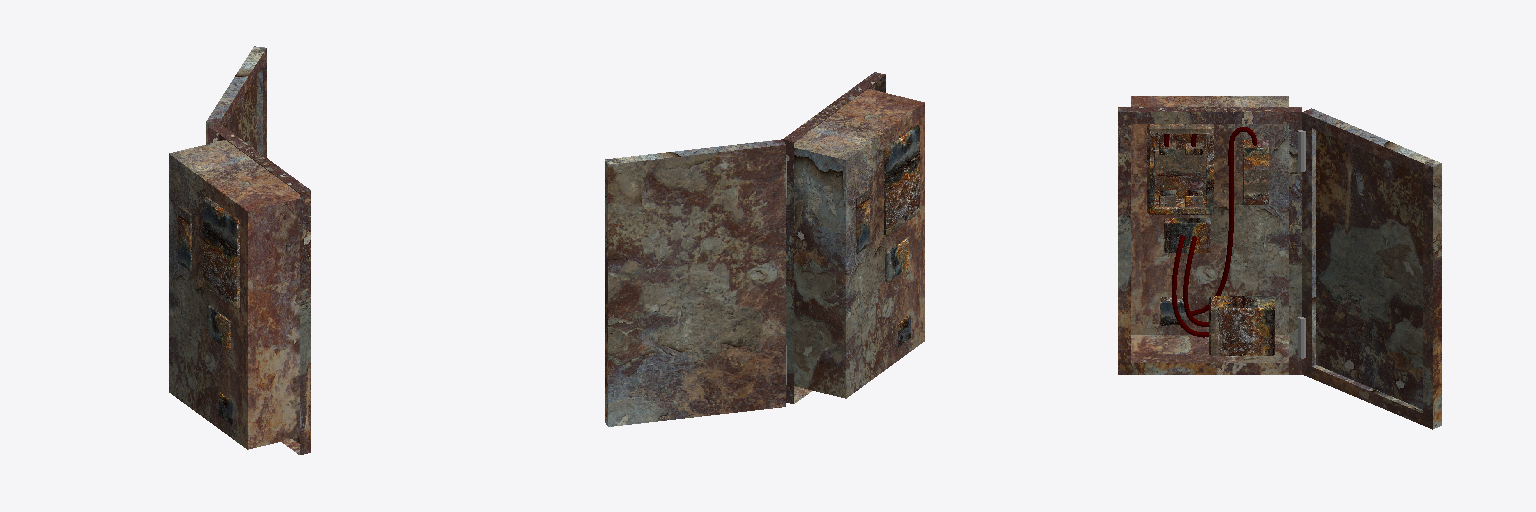
3 views of the same model, side by side, from view 1: azimuth 30°, elevation 25°; view 2: azimuth 150°, elevation 25°; view 3: azimuth 270°, elevation 25° (orthographic).
Parts seen in each view (by area): view 1: ElevatorElectricBox, ElevatorElectricBoxCover; view 2: ElevatorElectricBoxCover, ElevatorElectricBox; view 3: ElevatorElectricBox, ElevatorElectricBoxCover, Cable.
Part boxes in pixels (bbox=[...]): ElevatorElectricBox: bbox=[169, 123, 310, 454]; ElevatorElectricBoxCover: bbox=[206, 46, 266, 157]; ElevatorElectricBoxCover: bbox=[605, 139, 786, 426]; ElevatorElectricBox: bbox=[783, 72, 924, 403]; ElevatorElectricBox: bbox=[1118, 96, 1301, 374]; ElevatorElectricBoxCover: bbox=[1298, 108, 1441, 429]; Cable: bbox=[1164, 127, 1256, 337].
Size of the model in its own units: 0.7634 by 1.1 by 1.23.
Materials: 4 (2 with a texture image).